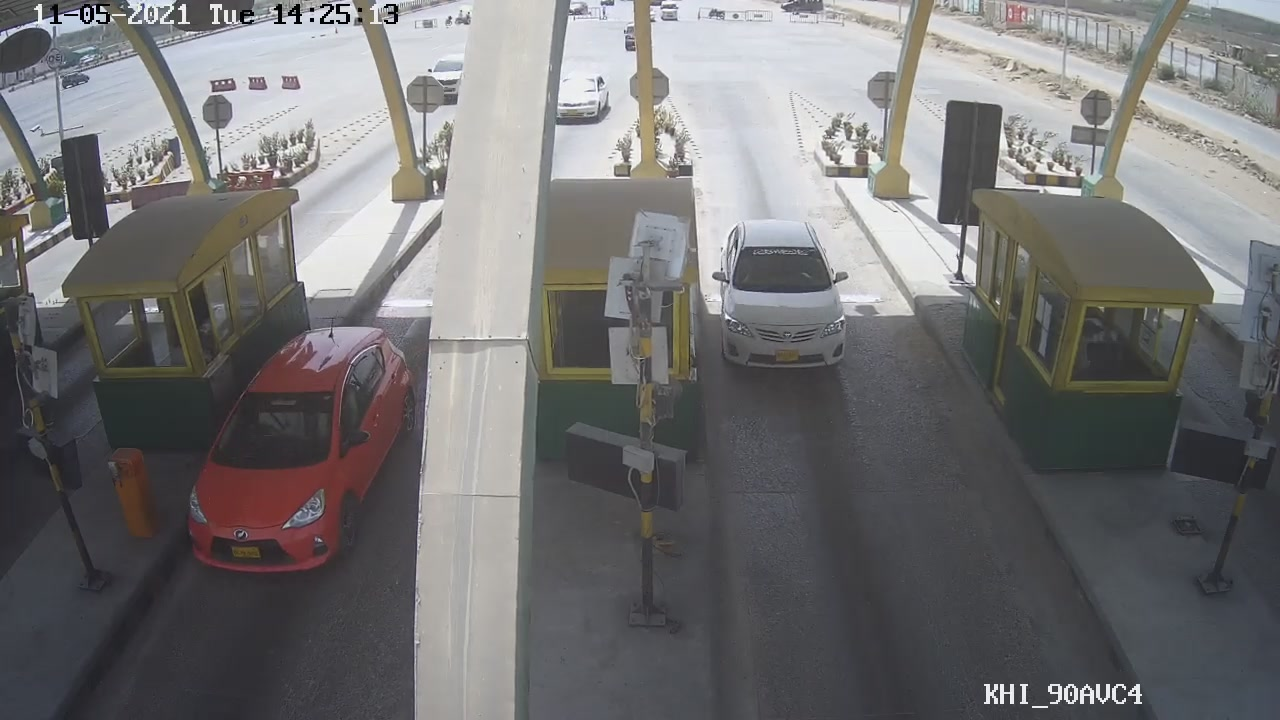F1: (712, 214, 859, 379)
